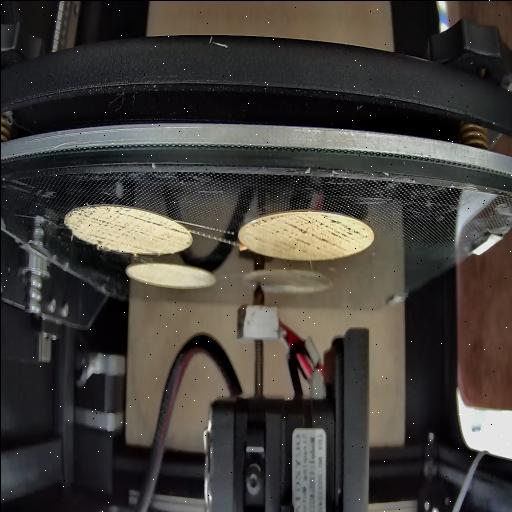under_extrusion: (68, 208, 190, 248), (249, 214, 368, 254)
